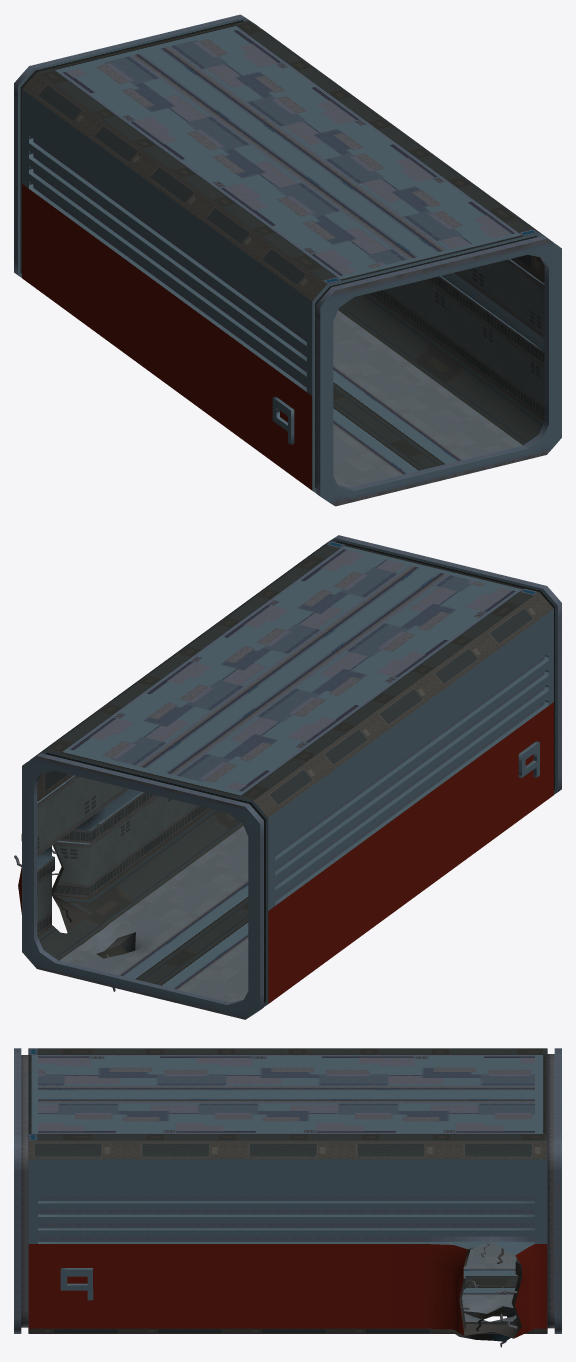
The model's file is mdlCargoHoldExplodedUpperFinal.fbx.
3 renders of one model, top to bottom at view 1: azimuth 30°, elevation 25°; view 2: azimuth 150°, elevation 25°; view 3: azimuth 270°, elevation 25°, orthographic. The views are drawn at different scales.
Visible parts, largest first — view 1: CargoHold.002; view 2: CargoHold.002; view 3: CargoHold.002.
Part boxes in pixels (x1,y1,x2,y2): CargoHold.002: (14,14,561,506); CargoHold.002: (14,535,561,1019); CargoHold.002: (14,1048,561,1347).
Size of the model in its own units: 7750 by 6493 by 14250.
